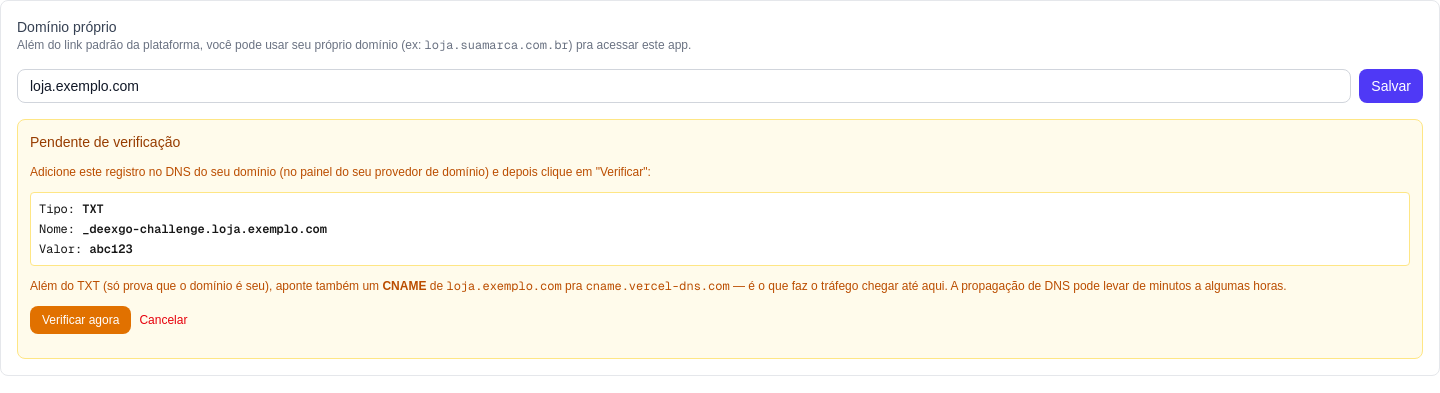
Scenario: CustomDomainPanel › verifying successfully flips the panel to the verified state
This screenshot has width=1440, height=393.
What coordinates should you click on to do the following:
click the button "Verificar agora"
I would click on:
 (81, 320)
Its box is [30,306,131,334].
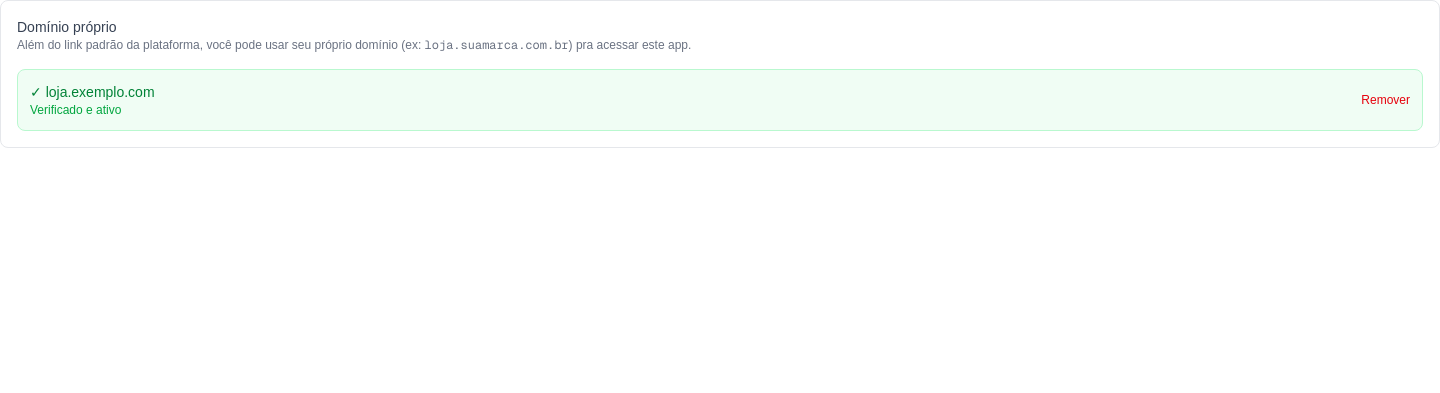
Expected: the text "✓ loja.exemplo.com" is shown, [30,82,155,102]
